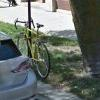Bicycle: (11, 10, 52, 85)
